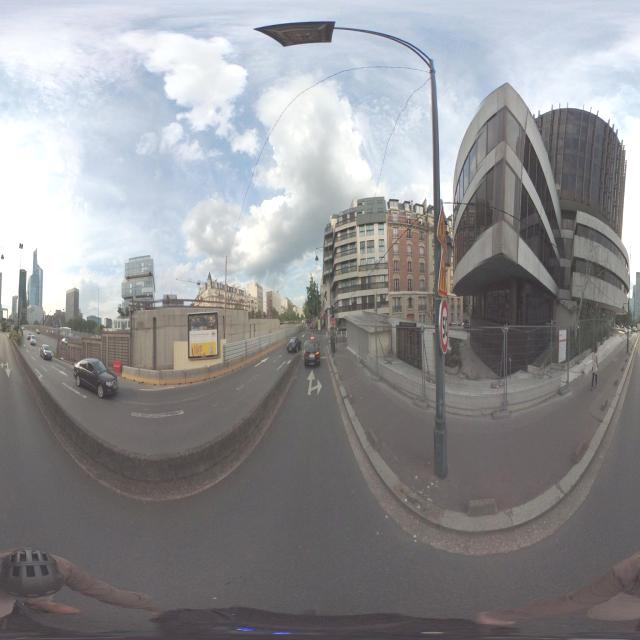car: (74, 358, 118, 398), (303, 339, 321, 369), (286, 337, 298, 354), (41, 345, 52, 361), (30, 334, 37, 346)
